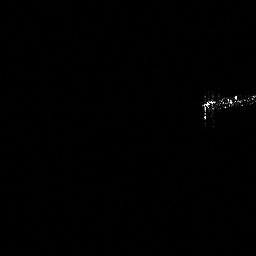ship: (200, 93, 255, 120)
